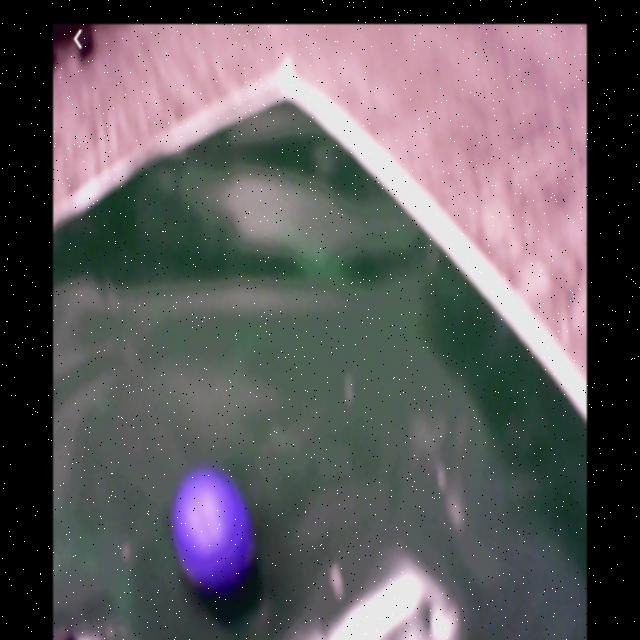ball: (173, 470, 253, 588)
